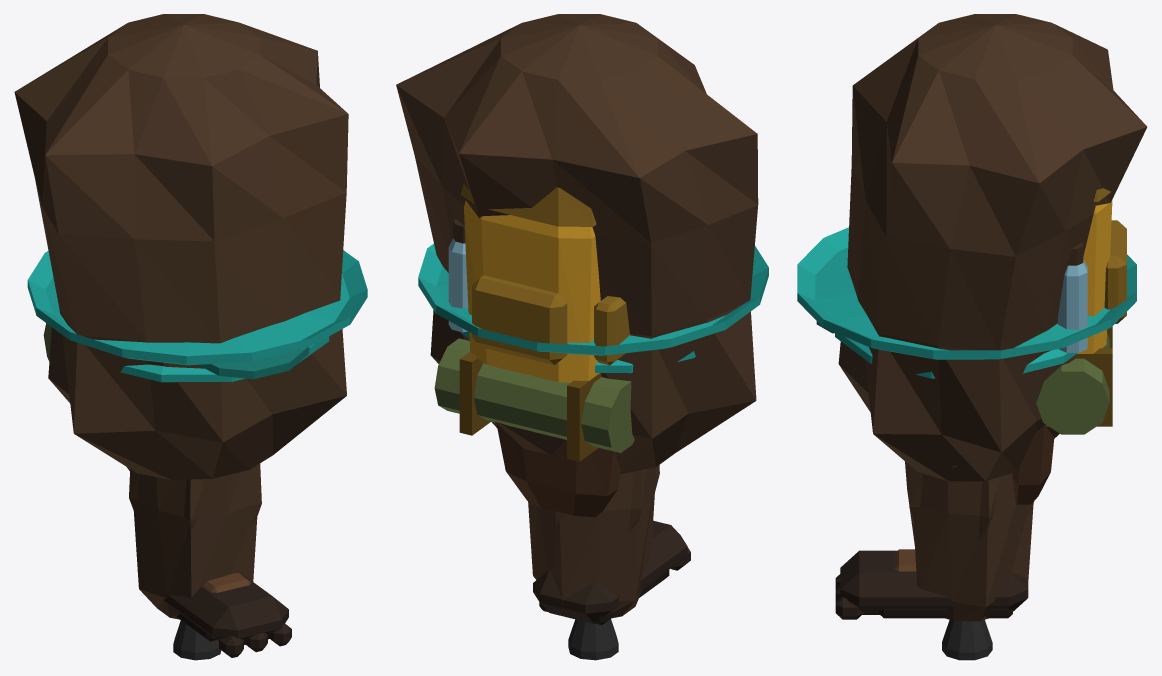
File: characters.glb
The picture shows the model from 3 angles, left to right: view 1: azimuth 30°, elevation 25°; view 2: azimuth 150°, elevation 25°; view 3: azimuth 270°, elevation 25°; orthographic projection. The views are drawn at different scales.
Parts seen in each view (by area): view 1: bfTorso-fur, bfThigh-fur, rangerHat-hat, bfShin-hide, bfUpperArm-fur, cap-hatDark, bucket-hat, flashlight-torch, boot-boot; view 2: bfTorso-fur, pack-pack, bfThigh-fur, pack-packDark, pack-roll, hairLong-hair, rangerHat-hat, bfShin-hide, pack-strap, flashlight-torch, pack-bottle, bfUpperArm-fur; view 3: bfTorso-fur, bfThigh-fur, rangerHat-hat, bfShin-hide, pack-roll, pack-pack, hairLong-hair, pack-bottle, pack-packDark, flashlight-torch, bfUpperArm-fur, bucket-hat (+2 smaller).
Boxes of the visible parts, x1,y1,x2,y2 form: bfTorso-fur: (14,14,348,479); bfThigh-fur: (133,467,257,619); rangerHat-hat: (27,250,367,365); bfShin-hide: (163,575,291,657); bfUpperArm-fur: (129,463,261,540); cap-hatDark: (197,347,309,379); bucket-hat: (120,336,329,382); flashlight-torch: (173,620,221,660); boot-boot: (203,572,250,592); bfTorso-fur: (396,14,758,474); pack-pack: (464,200,600,382); bfThigh-fur: (528,467,655,618); pack-packDark: (460,183,629,365); pack-roll: (434,338,634,452); hairLong-hair: (496,423,620,517); rangerHat-hat: (418,243,768,355); bfShin-hide: (533,520,690,623); pack-strap: (459,352,601,461); flashlight-torch: (568,619,618,660); pack-bottle: (448,238,468,332); bfUpperArm-fur: (555,465,659,532); bfTorso-fur: (838,14,1147,481); bfThigh-fur: (905,461,1033,621); rangerHat-hat: (797,227,1136,359); bfShin-hide: (835,550,1028,619); pack-roll: (1036,332,1109,434); pack-pack: (1077,200,1112,353); hairLong-hair: (1012,425,1054,504); pack-bottle: (1058,260,1087,352); pack-packDark: (1093,188,1126,323); flashlight-torch: (942,620,992,660); bfUpperArm-fur: (909,467,1033,539); bucket-hat: (835,333,1077,378).
Size of the model in its own units: 0.7785 by 1.47 by 0.7453.
